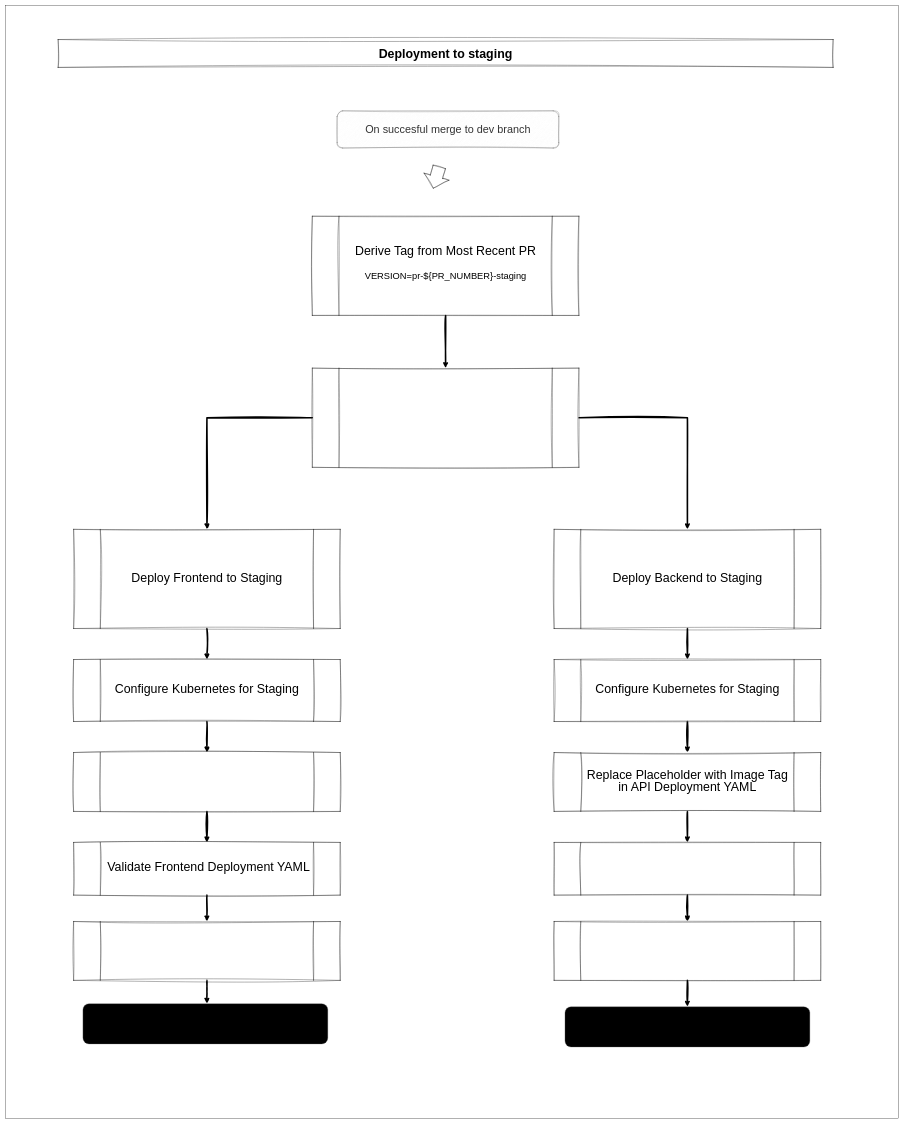
Image size: 904x1124. Some labels were removed from this diagram. Here are the shapes that lost their labels. From the top down, the centre of each, then its label:
the point at 445,417: Check if Backend or Frontend Code Changed
the point at 206,781: Replace Placeholder with Image Tag in Frontend Deployment YAML
the point at 687,868: Validate API Deployment YAML
the point at 206,950: Deploy Frontend to Kubernetes
the point at 687,950: Deploy API to Kubernetes
